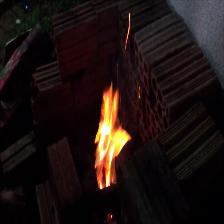fire: (85, 76, 144, 193)
